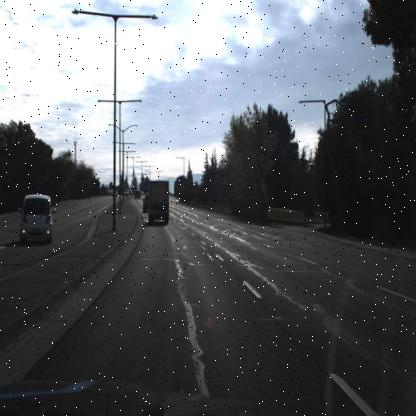car: (16, 194, 56, 242), (142, 192, 151, 217), (142, 192, 151, 213), (133, 189, 141, 200)
truck: (147, 179, 170, 224)
